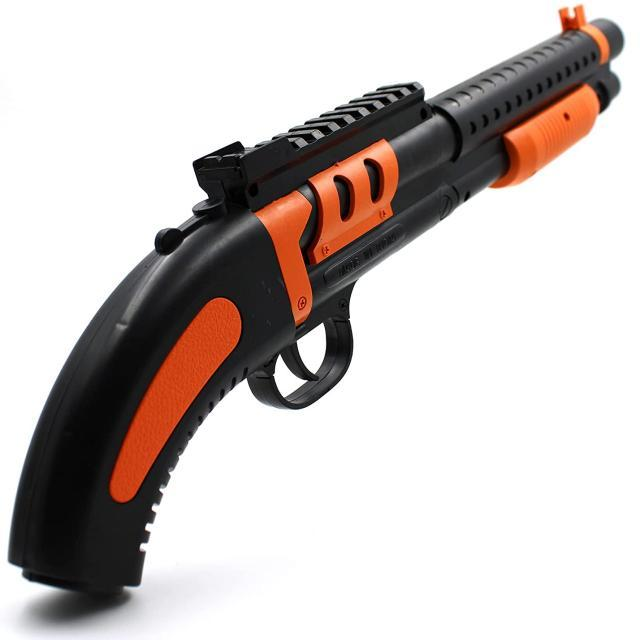shotgun: (1, 8, 627, 537)
